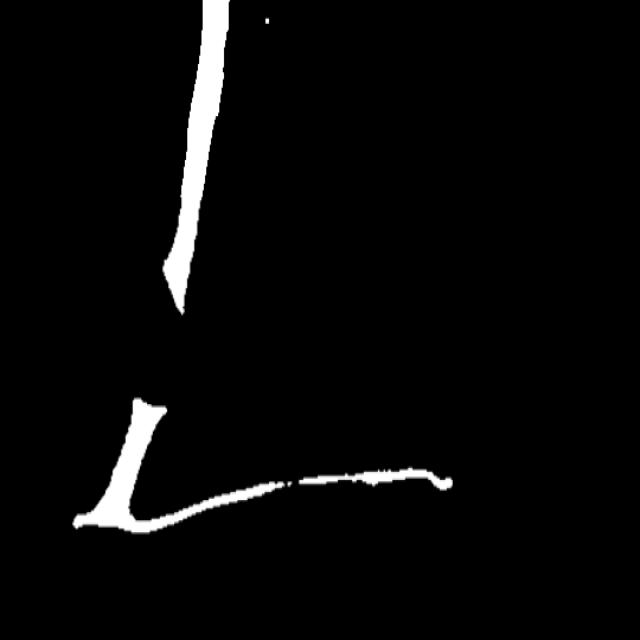inf: (277, 468, 310, 496)
